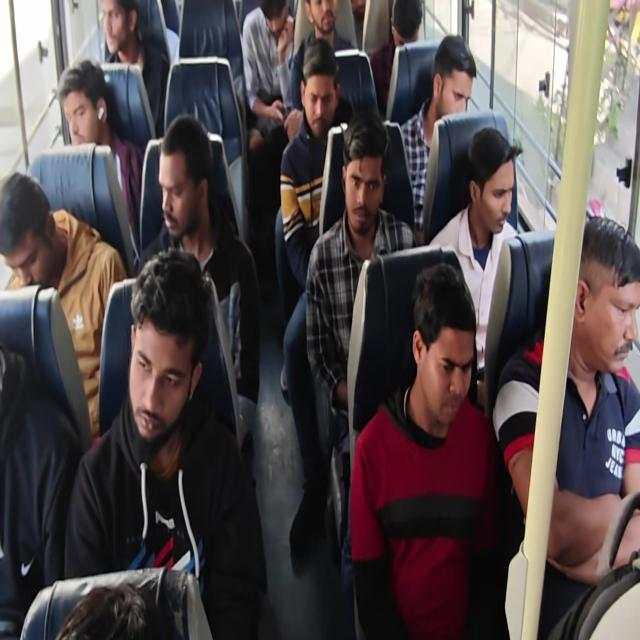person: (389, 283, 475, 430), (569, 237, 640, 385), (129, 259, 183, 437), (0, 171, 57, 289), (151, 137, 205, 239), (469, 136, 516, 245), (55, 76, 105, 148), (376, 0, 424, 70), (303, 54, 342, 140), (348, 137, 384, 229), (95, 0, 137, 71), (441, 46, 470, 124), (303, 0, 341, 45), (262, 0, 289, 47)
